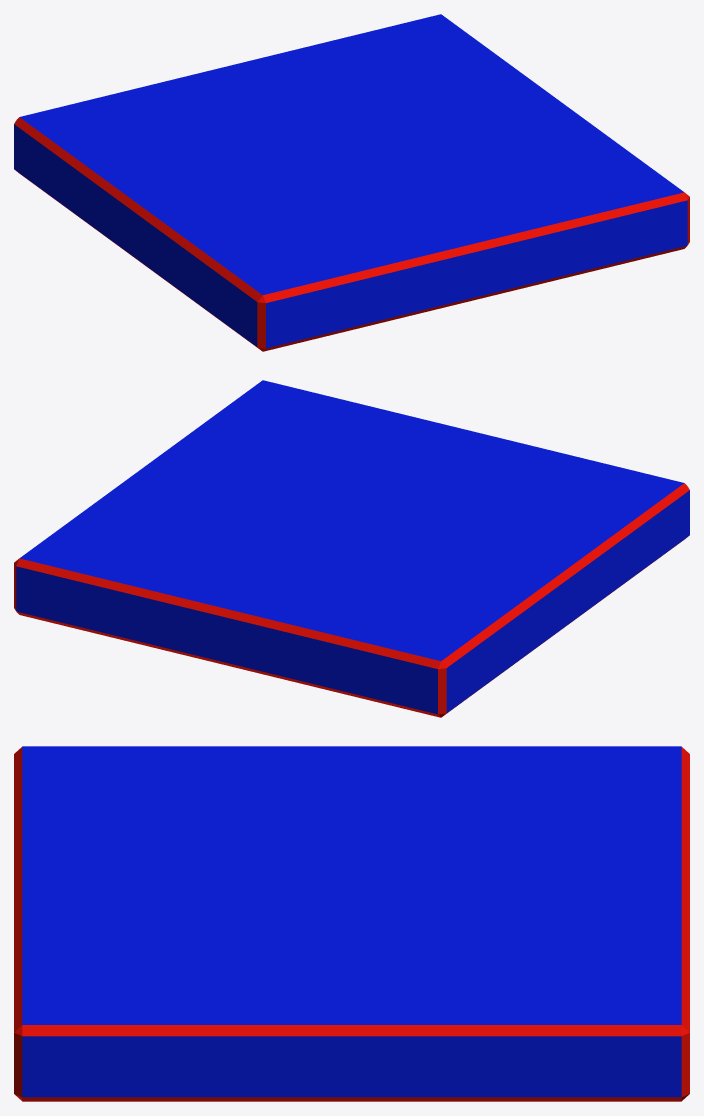
The model's file is L9_InnerCube_Floor.fbx.
3 renders of one model, top to bottom at view 1: azimuth 30°, elevation 25°; view 2: azimuth 150°, elevation 25°; view 3: azimuth 270°, elevation 25°, orthographic. The views are drawn at different scales.
Parts seen in each view (by area): view 1: L9_InnerCube_Floor; view 2: L9_InnerCube_Floor; view 3: L9_InnerCube_Floor.
Boxes of the visible parts, <box> form: L9_InnerCube_Floor: <box>14,14,689,351</box>; L9_InnerCube_Floor: <box>14,380,689,717</box>; L9_InnerCube_Floor: <box>14,746,689,1101</box>.
Bounding box in the file's own units: 200 × 25 × 200.
